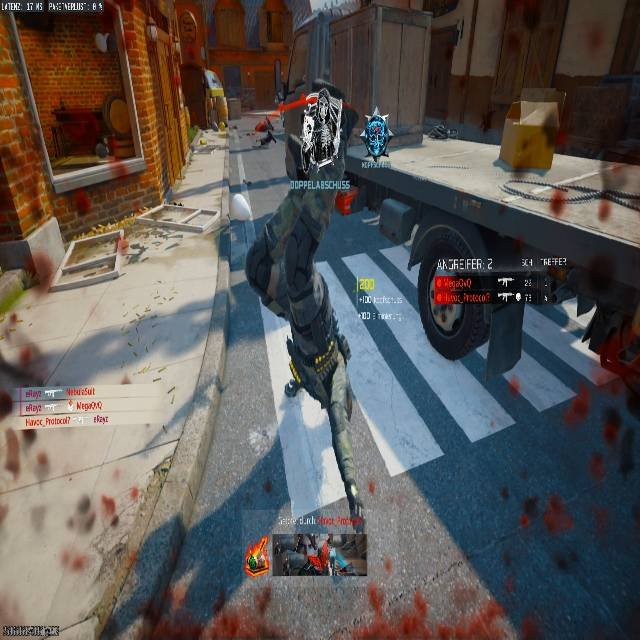player: (362, 112, 390, 164), (254, 117, 276, 147)
